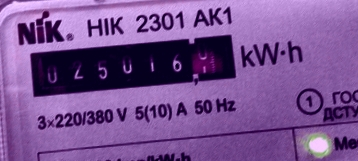0: (118, 51, 134, 75), (43, 61, 58, 84), (194, 39, 207, 60)
1: (143, 48, 156, 74), (198, 62, 206, 74)
2: (69, 56, 84, 80)
5: (94, 57, 107, 79)
6: (167, 49, 182, 75)
screen: (18, 23, 245, 103)
